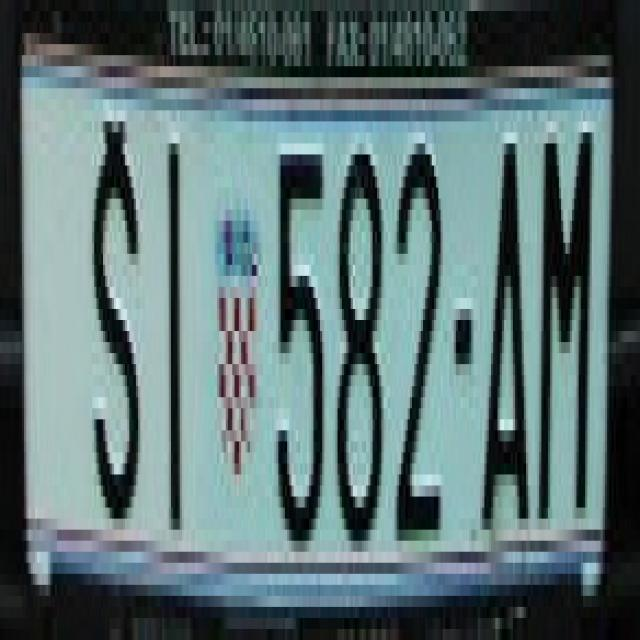2: (396, 155, 441, 530)
5: (270, 99, 322, 541)
8: (340, 166, 379, 552)
A: (482, 132, 535, 518)
M: (539, 110, 592, 497)
S: (90, 121, 140, 530)
